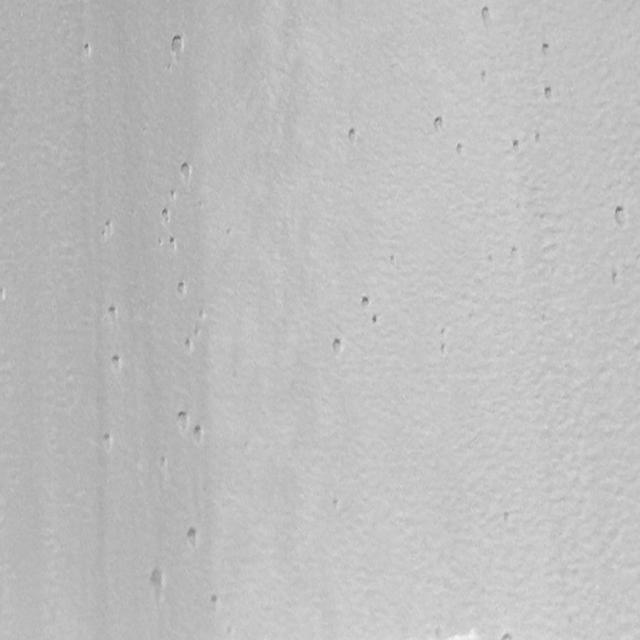pin holes: (146, 565, 168, 598), (168, 32, 188, 62), (612, 203, 632, 230), (476, 2, 496, 28), (182, 526, 202, 552), (429, 115, 448, 139), (177, 158, 194, 184), (345, 124, 364, 147), (191, 424, 209, 448), (98, 217, 116, 240), (329, 336, 346, 358), (174, 408, 191, 430), (542, 84, 558, 105), (107, 303, 122, 324), (174, 280, 189, 301), (360, 294, 376, 313), (112, 353, 126, 373), (453, 140, 468, 158), (510, 136, 525, 154), (540, 42, 554, 61), (208, 591, 222, 610), (160, 207, 173, 227), (100, 432, 114, 450), (183, 336, 197, 354), (609, 270, 623, 288), (82, 41, 95, 60), (509, 242, 522, 260), (167, 234, 180, 251), (501, 628, 520, 639), (438, 341, 451, 357), (370, 311, 382, 328), (533, 129, 545, 145), (479, 68, 491, 84), (159, 454, 170, 470), (196, 308, 208, 322), (0, 287, 9, 305), (157, 233, 166, 249), (168, 189, 178, 202)
